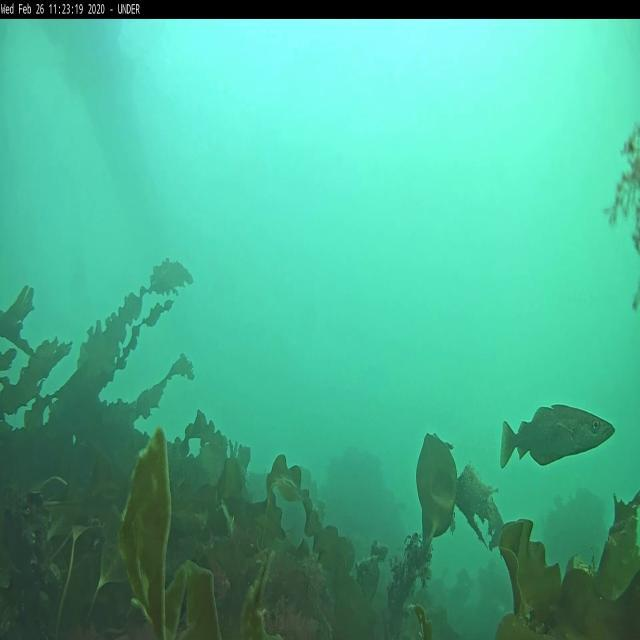fish: (502, 406, 614, 466)
